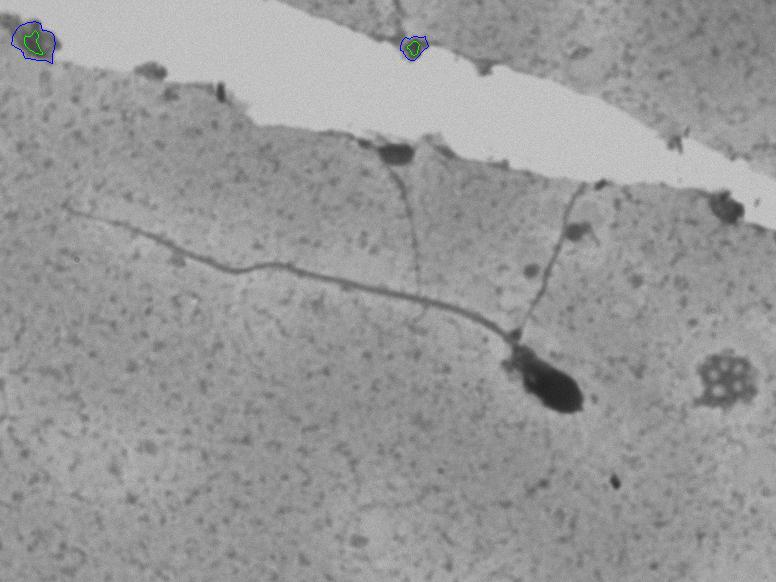Abnormal: (65, 168, 595, 453)
